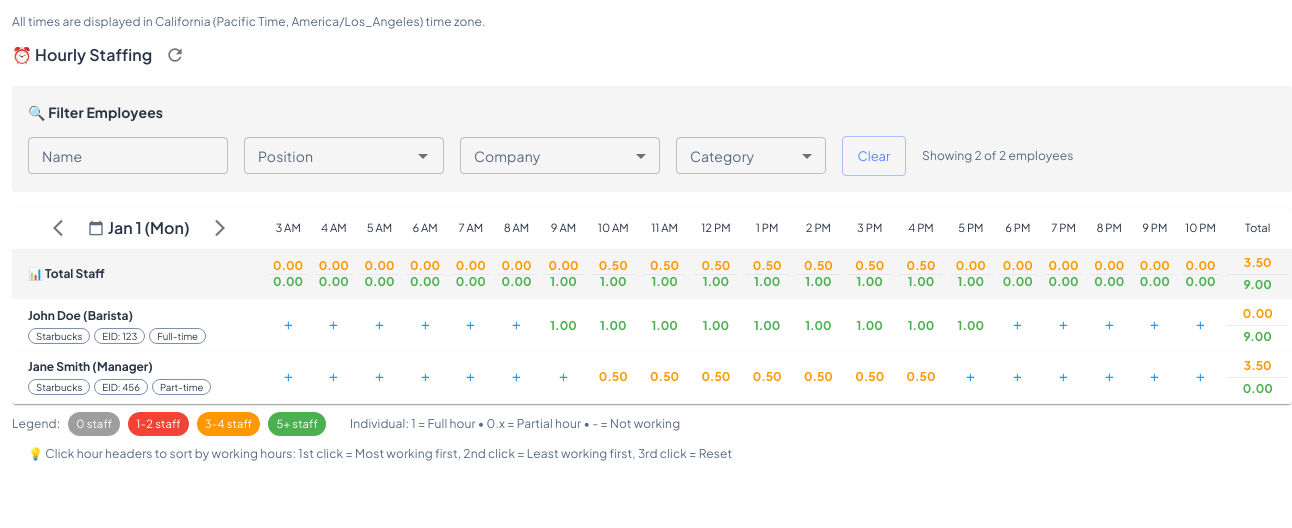
HourlyStaffingTable › Sorting › cycles through sort directions when clicking same hour multiple times
# First click: descending
Click the text "9 AM" at (563, 227), box 551,220 -> 576,234
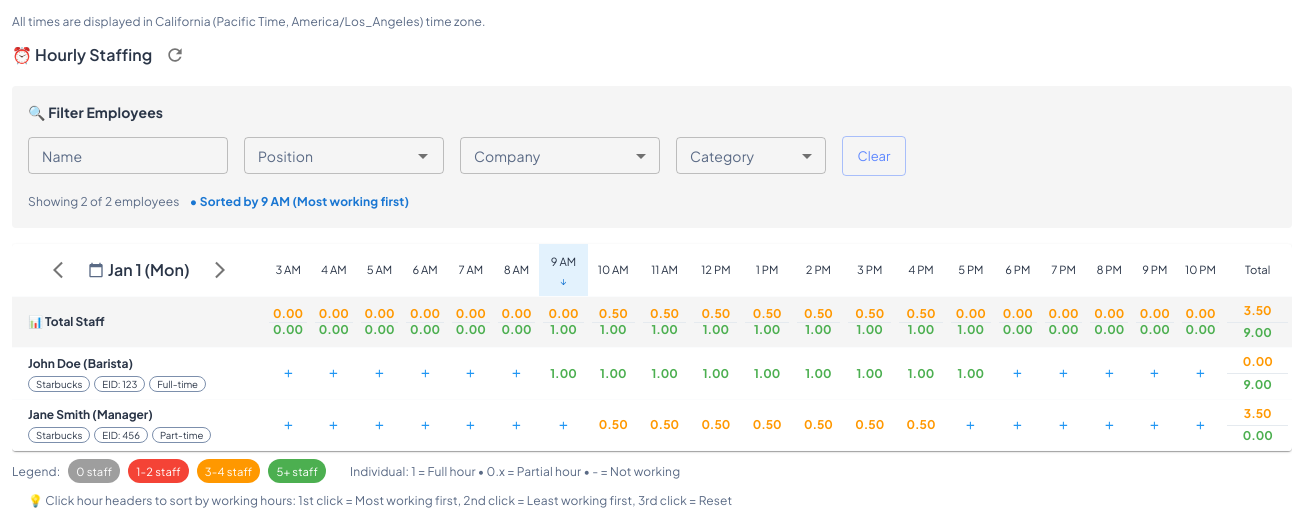
Result: the text "• Sorted by 9 AM (Most working first)" is shown at 190,194 -> 409,209
# Second click: ascending
Click the text "9 AM" at (563, 261), box 551,254 -> 576,268
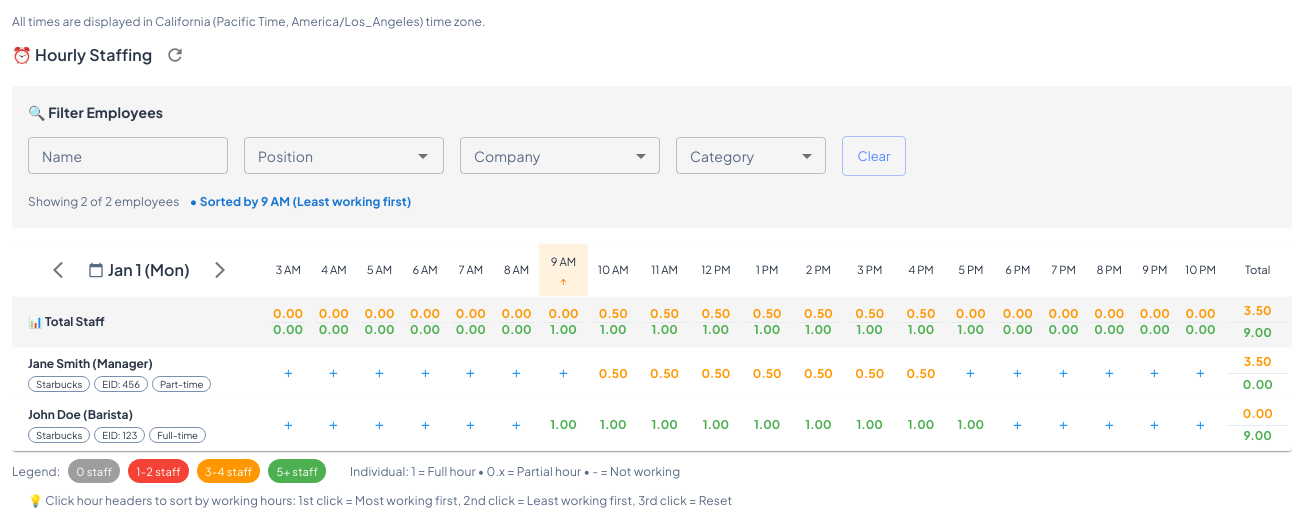
Result: the text "• Sorted by 9 AM (Least working first)" is shown at 190,194 -> 412,209
# Third click: reset
Click the text "9 AM" at (563, 261), box 551,254 -> 576,268
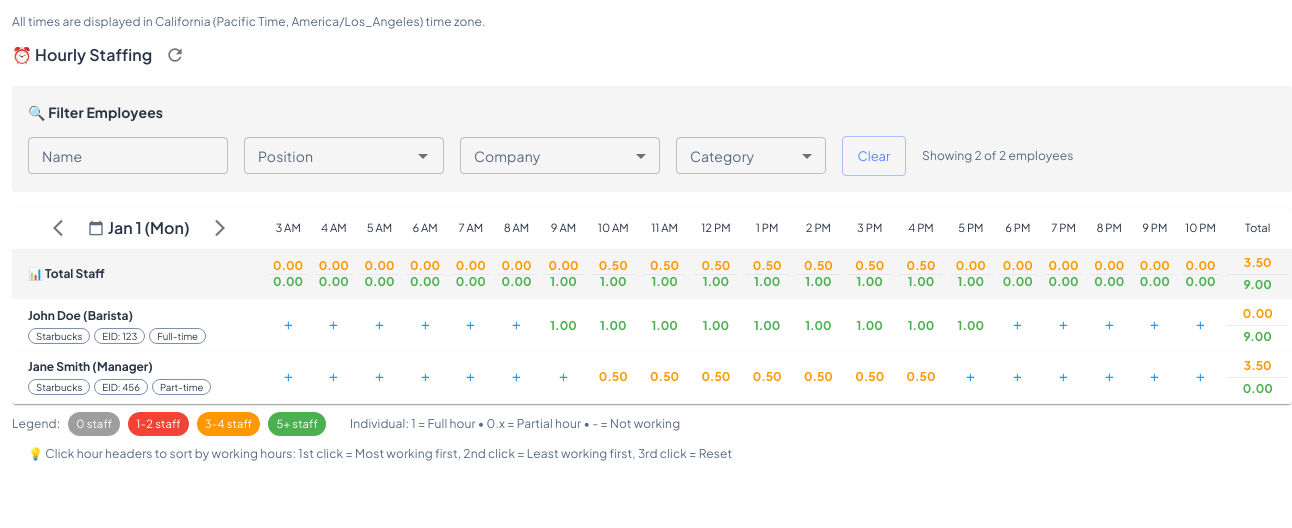
Result: the text "Sorted by 9 AM" is gone
